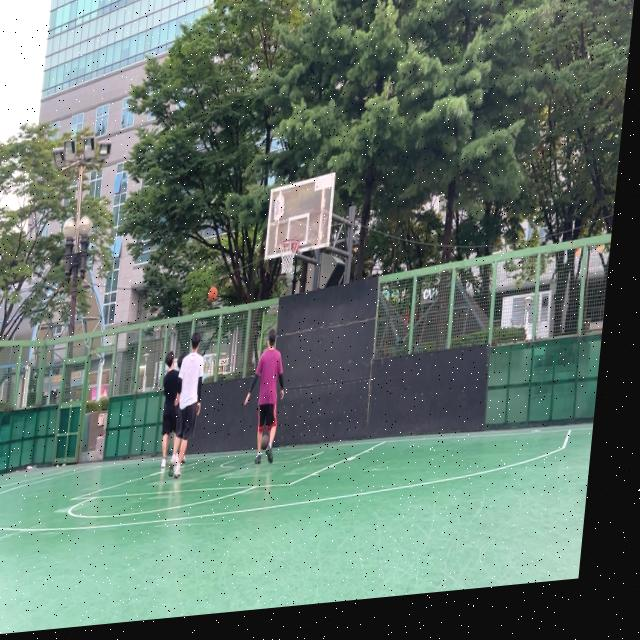basketball: (208, 286, 218, 302)
hoop: (277, 238, 301, 275)
